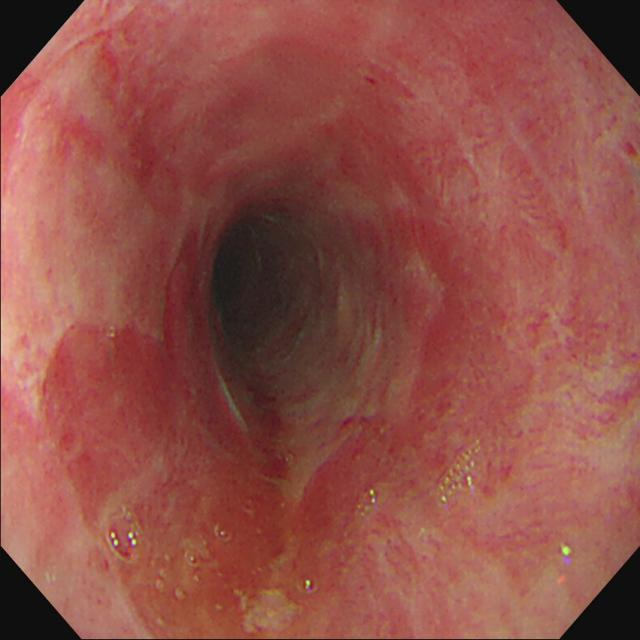A: (42, 323, 291, 640), (54, 33, 214, 323), (347, 111, 480, 418), (291, 421, 422, 607)
